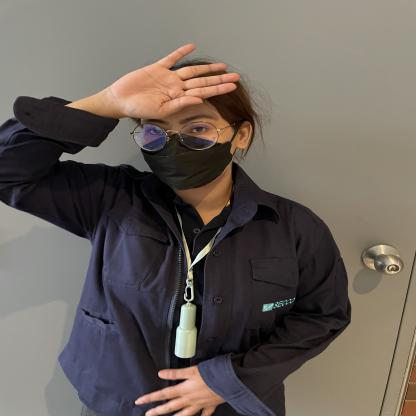Sick: (45, 38, 274, 121)
